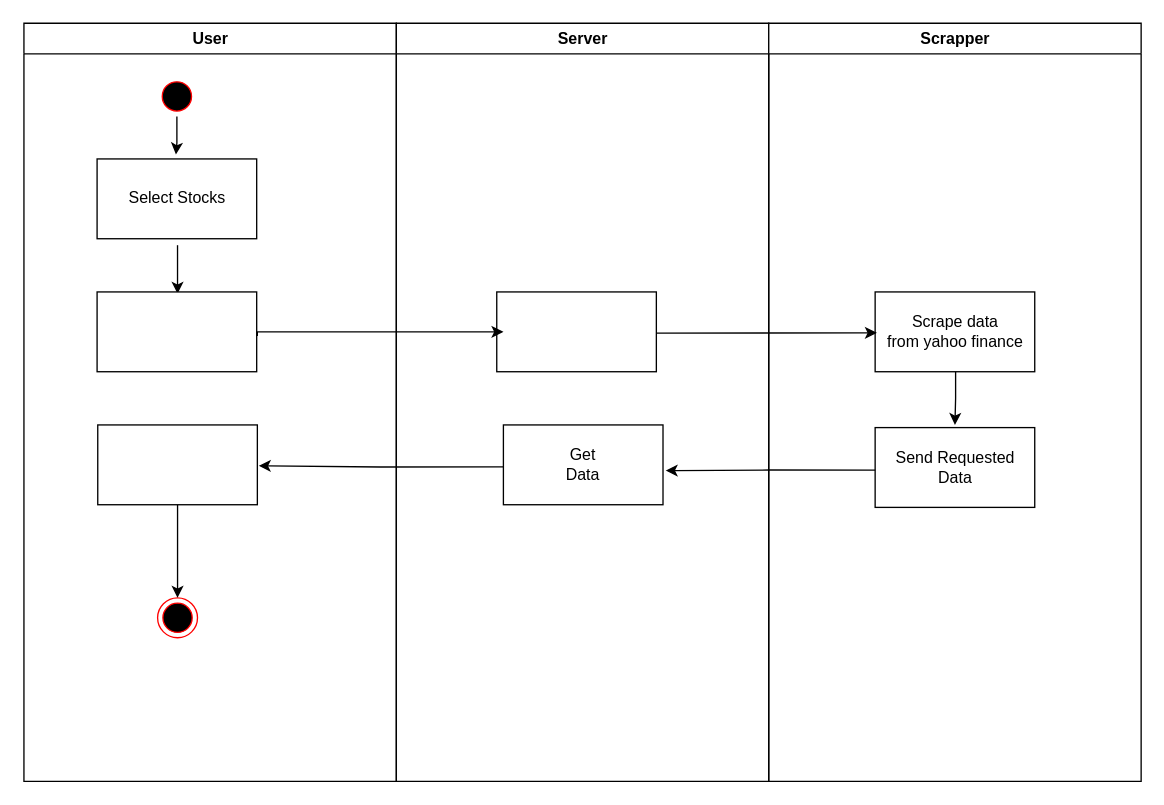
The diagram is 1164 pixels wide and 805 high, and some of its shapes have lost their labels. Here are the shapes that lost their labels. From the top down, the centre of each, then its label:
At point (176, 331): "Send Request".
At point (575, 331): "Request Selected Stocks".
At point (176, 464): "Show Data".
